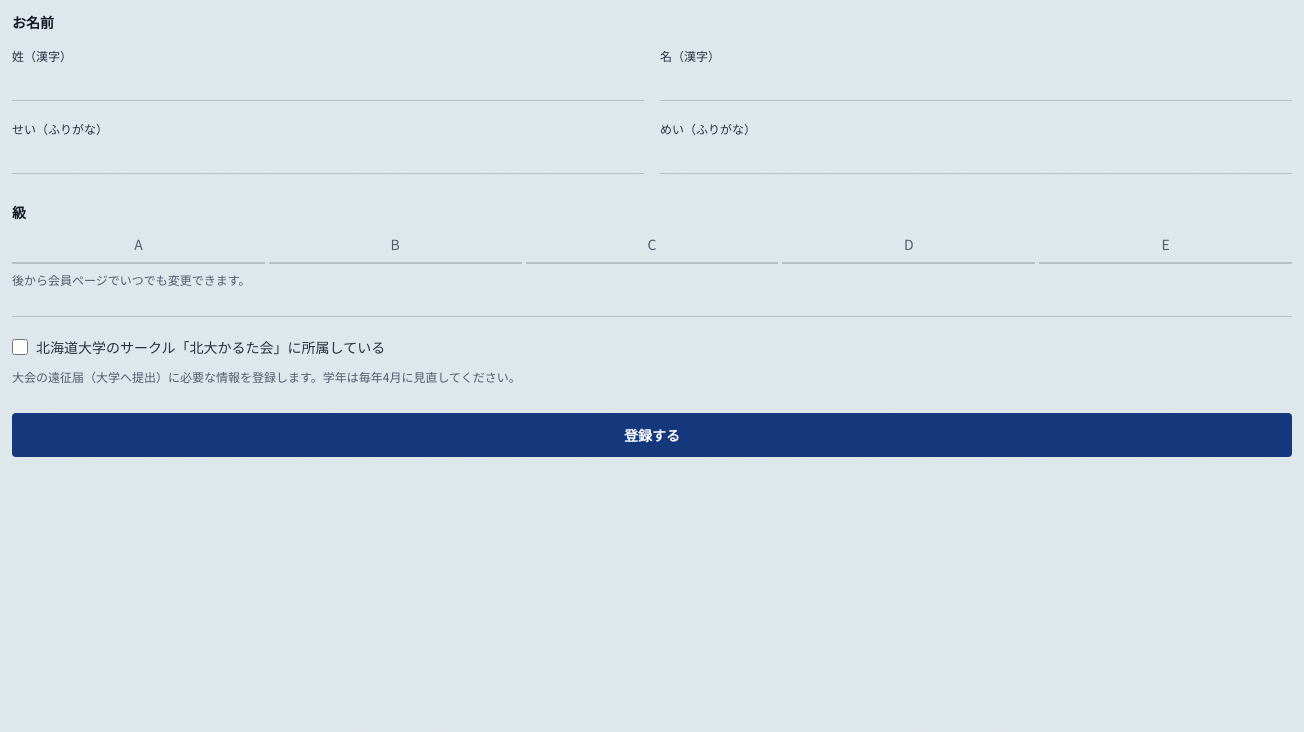
RegisterForm サークル所属ブロック（会員用） › D級（全日協ブロック無し）でも ON にすると電話・生年月日欄が1つだけ開く
Click the radio button named "D級".
click(909, 247)  # box [782,230,1035,264]
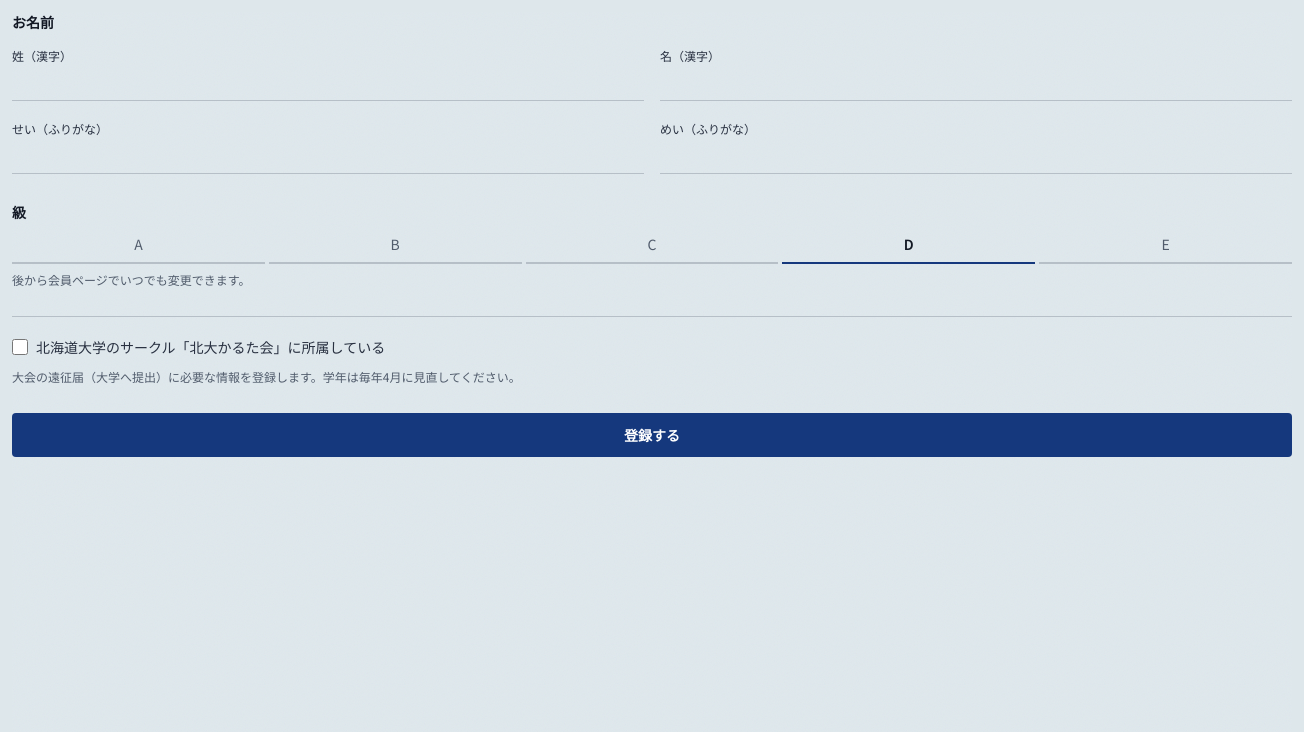
Click the checkbox labelled "北海道大学のサークル「北大かるた会」に所属している".
click(20, 347)  # box [12,339,28,355]
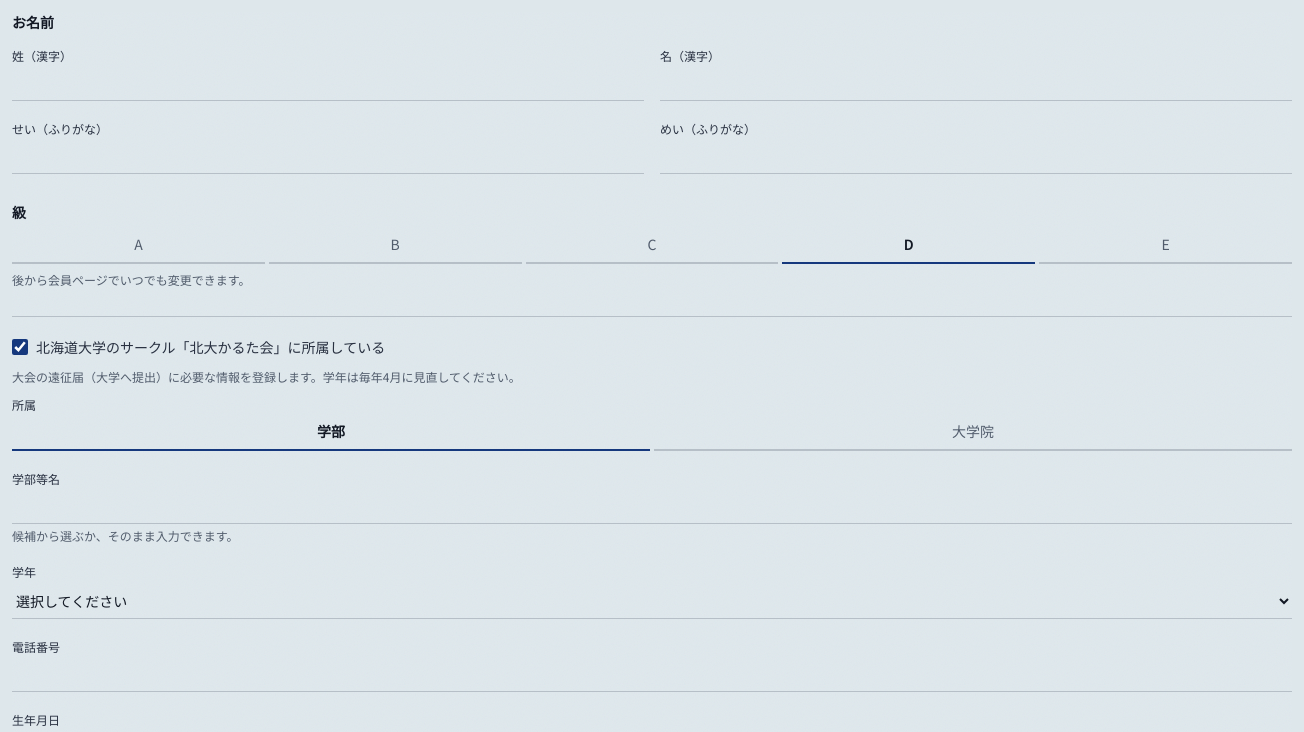
Now the number of fields labelled "電話番号" is 1, box [12,659,1292,692]
